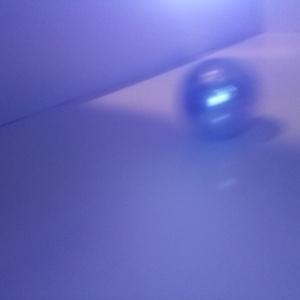alive_ball: (183, 57, 253, 136)
